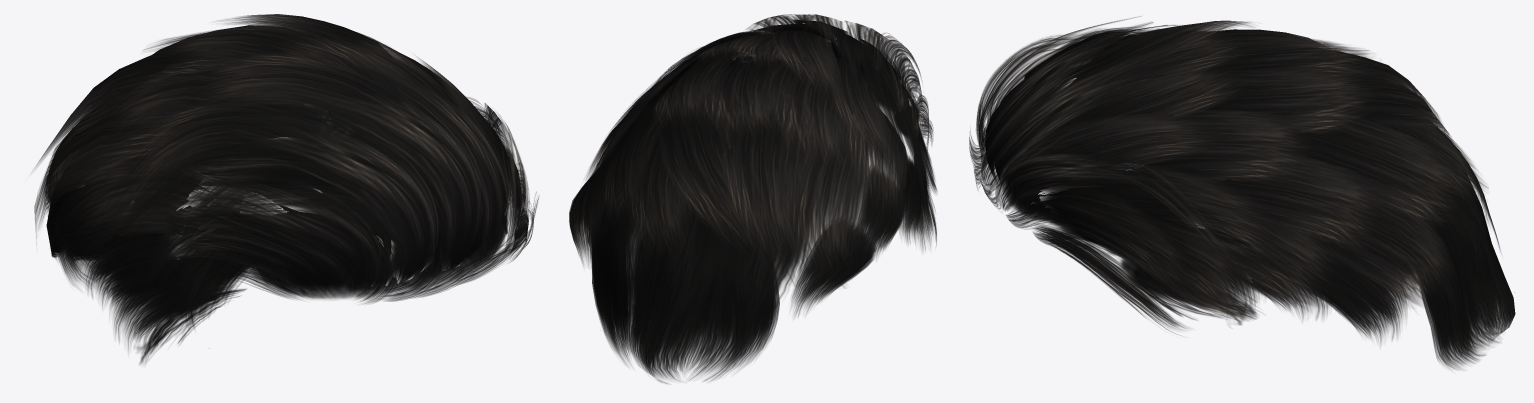
File: Oblong_Straight_SlickBack.glb
3 views of the same model, side by side, from view 1: azimuth 30°, elevation 25°; view 2: azimuth 150°, elevation 25°; view 3: azimuth 270°, elevation 25° (orthographic). The views are drawn at different scales.
Parts seen in each view (by area): view 1: slick back; view 2: slick back; view 3: slick back.
Boxes of the visible parts, x1,y1,x2,y2 form: slick back: [34, 14, 538, 364]; slick back: [569, 14, 937, 383]; slick back: [969, 16, 1515, 369].
Bounding box in the file's own units: 0.1704 × 0.1421 × 0.2184.
1 material, 1 textured.
